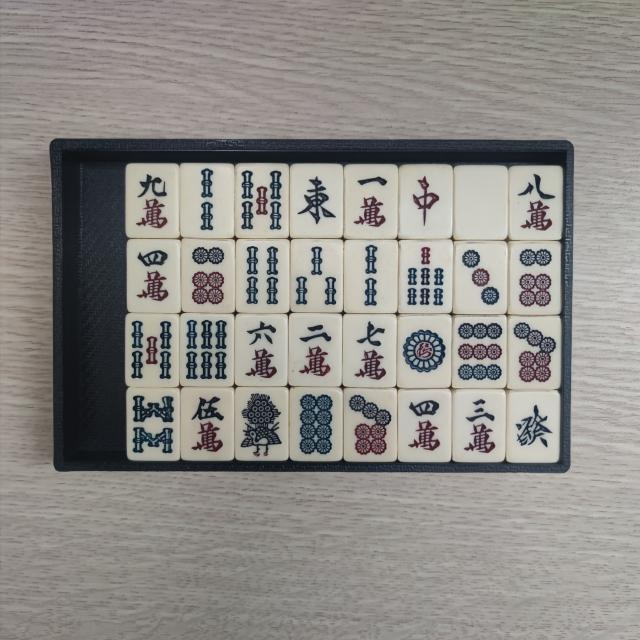hdg: (512, 396, 555, 458)
hdr: (406, 170, 448, 235)
hdw: (461, 172, 505, 236)
hwe: (294, 170, 340, 234)
sb1: (239, 392, 285, 458)
sb2: (347, 243, 393, 310), (186, 168, 231, 235)
sb3: (292, 242, 338, 308)
sb4: (242, 244, 286, 309)
sb5: (241, 168, 286, 236), (130, 320, 176, 386)
sb6: (183, 320, 230, 384)
sb7: (403, 244, 449, 309)
sb8: (130, 392, 175, 458)
sc1: (350, 168, 392, 232)
sc2: (292, 319, 336, 383)
sc3: (458, 394, 502, 458)
sc4: (402, 395, 447, 458), (132, 245, 176, 308)
sc5: (186, 394, 231, 458)
sc6: (242, 319, 284, 383)
sc7: (349, 318, 393, 384)
sc8: (513, 171, 558, 236)
sc9: (132, 170, 174, 233)
sd1: (401, 320, 449, 384)
sd3: (460, 246, 506, 310)
sd6: (188, 244, 231, 308), (514, 247, 556, 311)
sd7: (512, 320, 558, 386), (348, 394, 393, 458)
sd8: (294, 393, 338, 459)
sd9: (458, 322, 506, 385)
